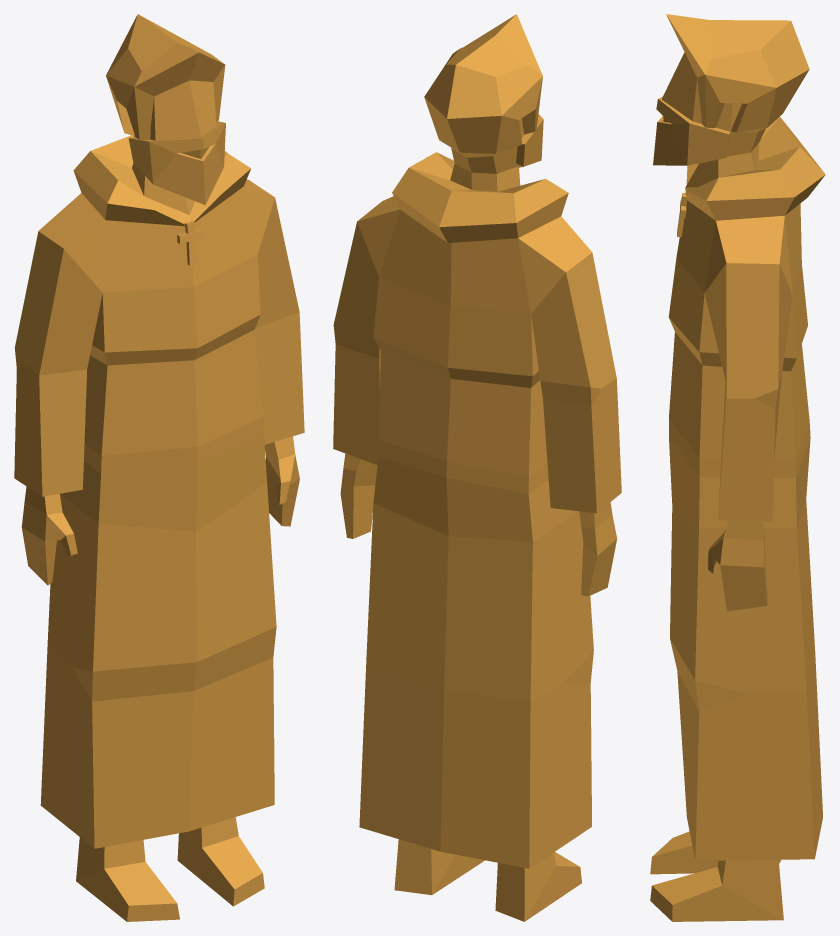
The model's file is man-monk-old.fbx.
3 views of the same model, side by side, from view 1: azimuth 30°, elevation 25°; view 2: azimuth 150°, elevation 25°; view 3: azimuth 270°, elevation 25° (orthographic). The views are drawn at different scales.
Parts seen in each view (by area): view 1: man-monk-old; view 2: man-monk-old; view 3: man-monk-old.
Boxes of the visible parts, box(x1,y1,x2,y2) form: man-monk-old: box(14, 14, 304, 921); man-monk-old: box(333, 14, 621, 921); man-monk-old: box(650, 14, 825, 921).
Bounding box in the file's own units: 0.599 × 1.84 × 0.3359.
